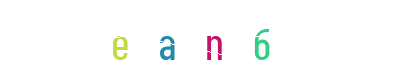6: (175, 0, 255, 80)
A: (165, 0, 245, 80)
E: (80, 0, 160, 80)
N: (174, 0, 254, 80)
